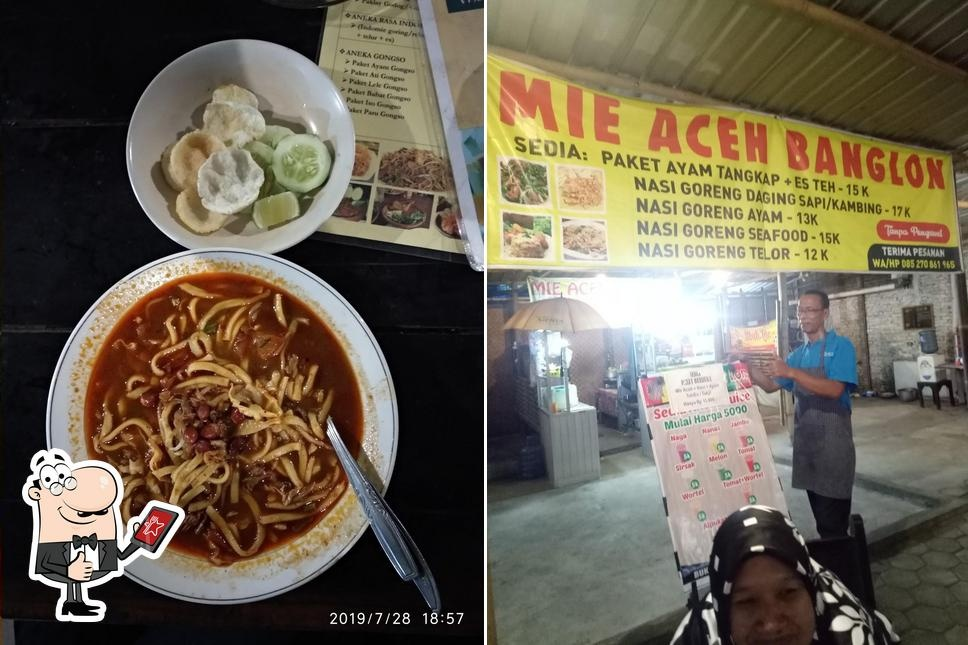mie_aceh: (106, 290, 362, 556)
